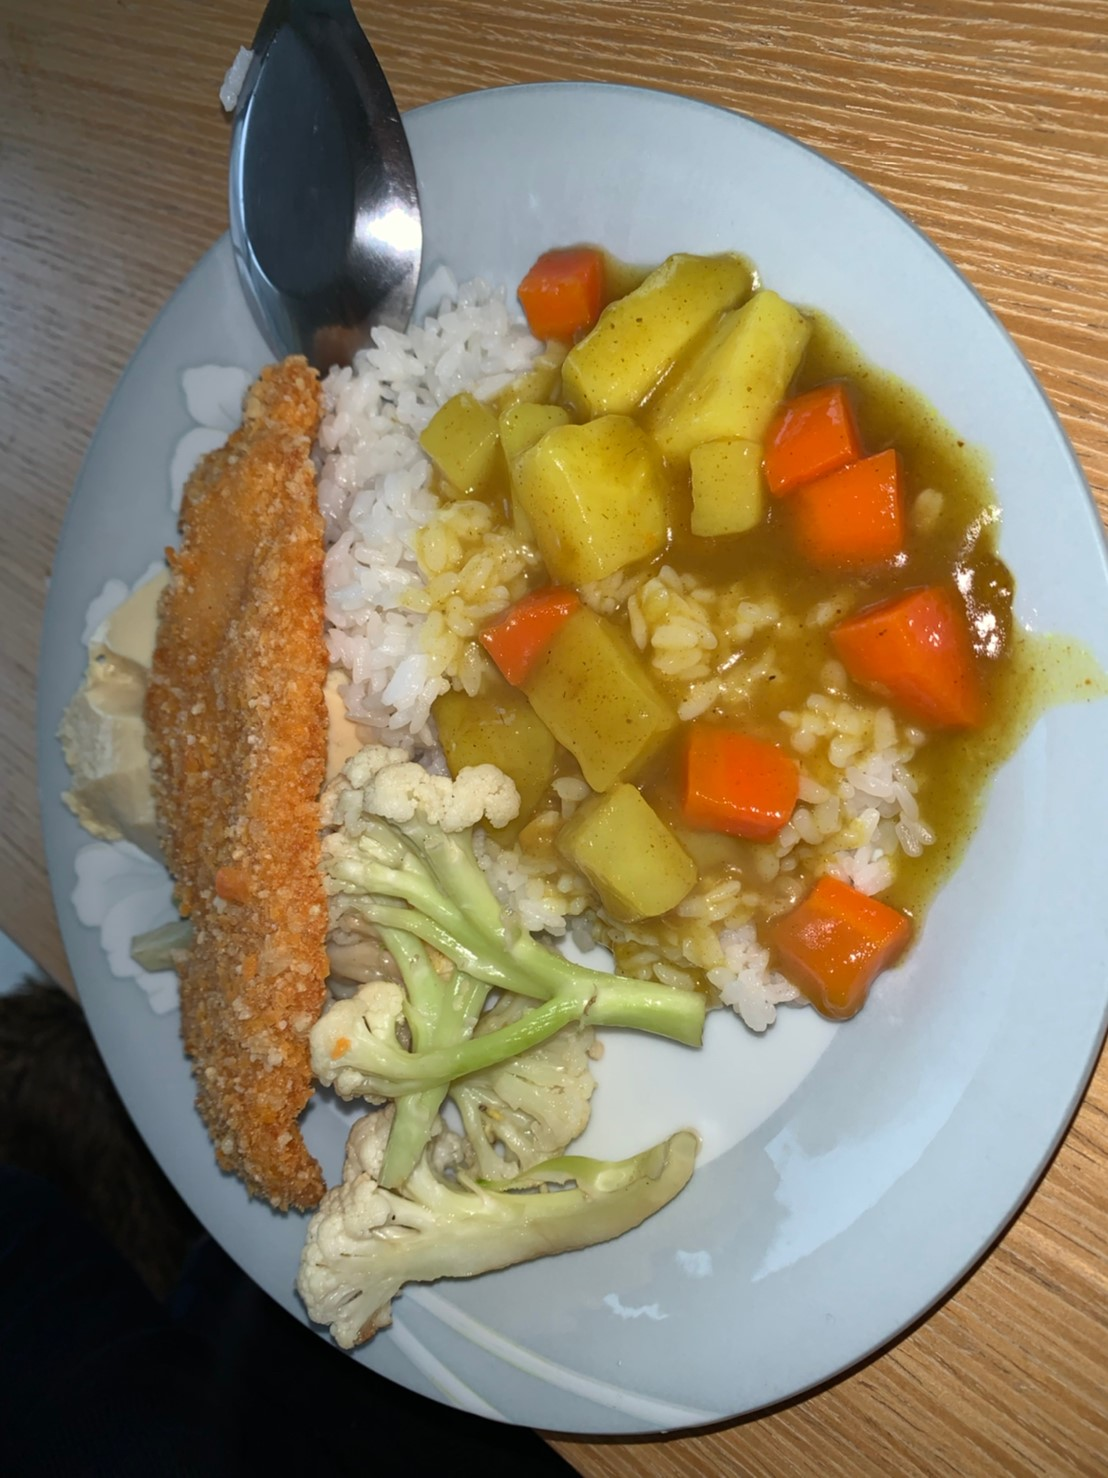curry: (466, 243, 1020, 1035)
fried_chicken: (159, 350, 341, 1220)
